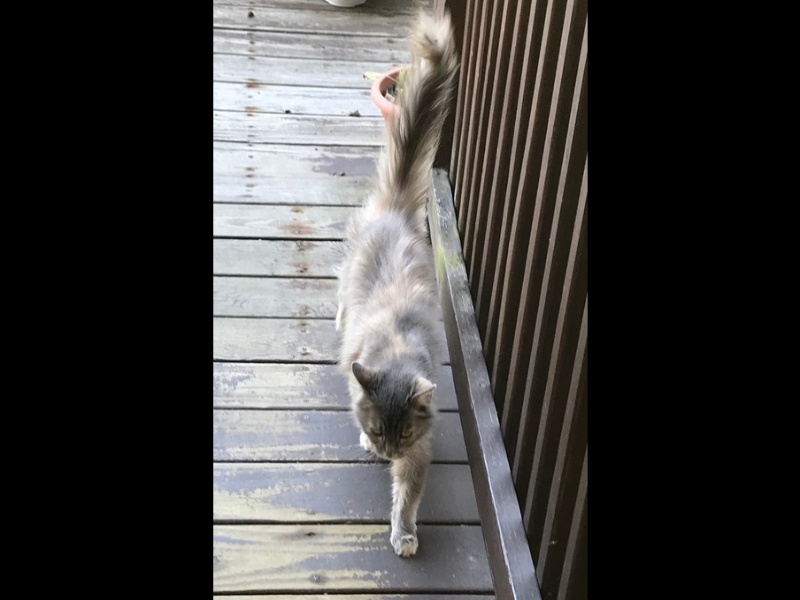cat: (336, 17, 455, 562)
